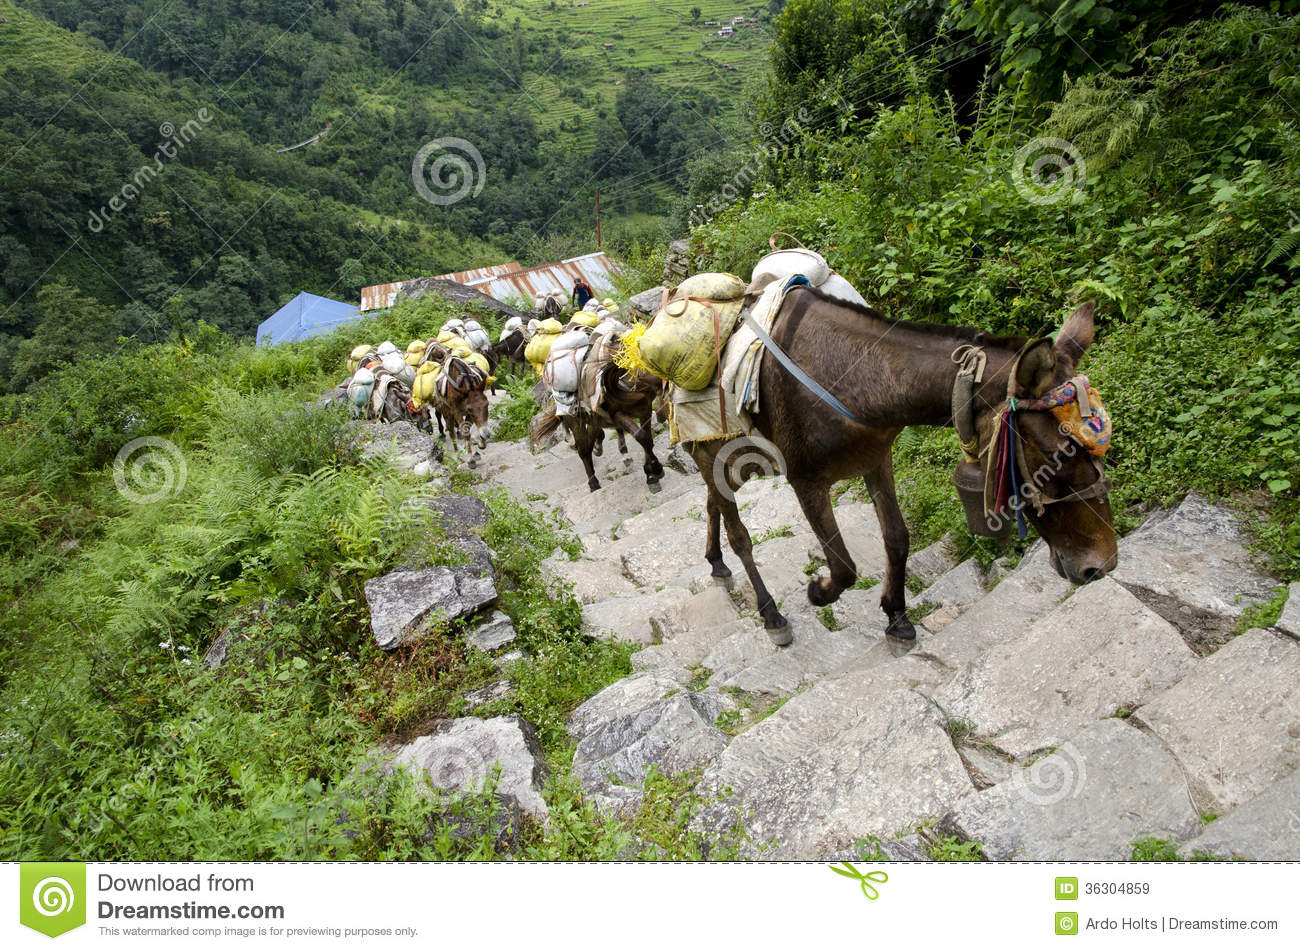equine: (594, 265, 1155, 676), (529, 320, 708, 508), (405, 355, 525, 469)
human: (563, 273, 602, 316)
